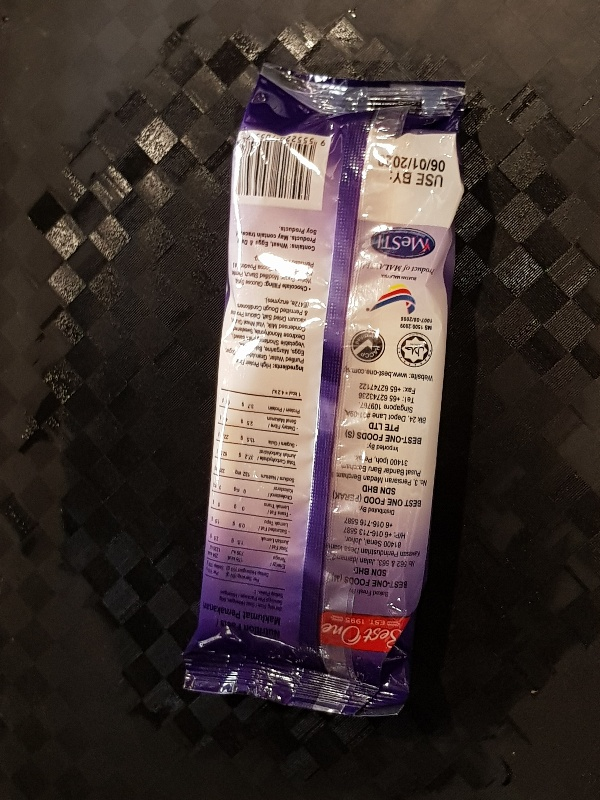Tinges Roll Chocolate: (182, 61, 468, 718)
